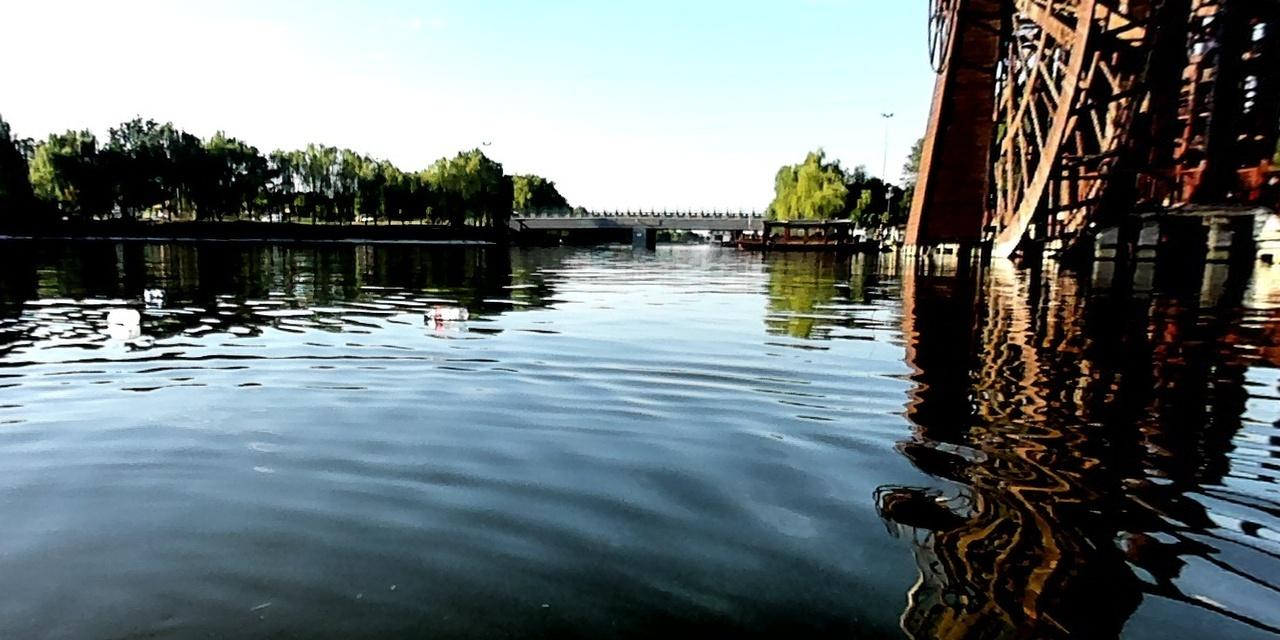bottle: (420, 303, 470, 322), (103, 303, 138, 326), (141, 285, 164, 299)
